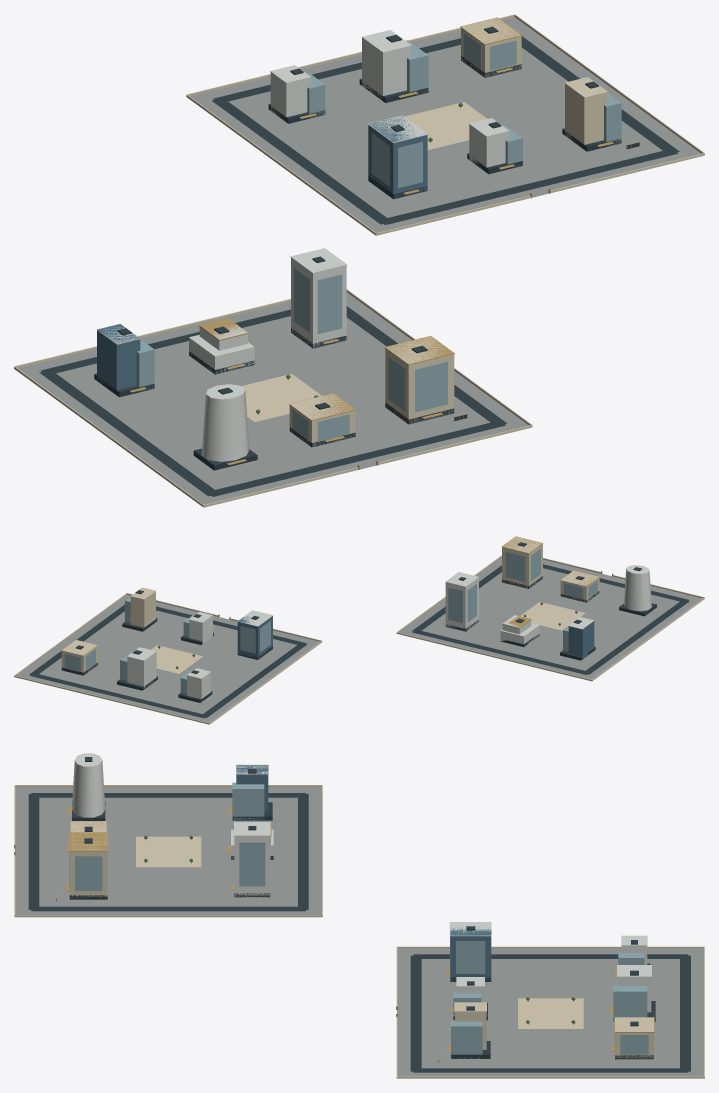
File: GC-TILE-19-20.glb
The picture shows the model from 3 angles, top to bottom: view 1: azimuth 30°, elevation 25°; view 2: azimuth 150°, elevation 25°; view 3: azimuth 270°, elevation 25°; orthographic projection. The views are drawn at different scales.
Parts seen in each view (by area): view 1: GC-TILE-19-20-paving, GC-TILE-19-20-ivory, GC-TILE-19-20-dark, GC-TILE-19-20-white, GC-TILE-19-20-glass, GC-TILE-19-20-blue, GC-TILE-19-20-gold; view 2: GC-TILE-19-20-paving, GC-TILE-19-20-ivory, GC-TILE-19-20-dark, GC-TILE-19-20-white, GC-TILE-19-20-glass, GC-TILE-19-20-blue, GC-TILE-19-20-gold; view 3: GC-TILE-19-20-paving, GC-TILE-19-20-dark, GC-TILE-19-20-ivory, GC-TILE-19-20-glass, GC-TILE-19-20-white, GC-TILE-19-20-blue, GC-TILE-19-20-gold.
Part boxes in pixels (x1=…): GC-TILE-19-20-paving: x1=18, y1=17, x2=700, y2=504; GC-TILE-19-20-ivory: x1=14, y1=14, x2=704, y2=507; GC-TILE-19-20-dark: x1=39, y1=26, x2=679, y2=496; GC-TILE-19-20-white: x1=96, y1=30, x2=607, y2=461; GC-TILE-19-20-glass: x1=136, y1=33, x2=621, y2=441; GC-TILE-19-20-blue: x1=97, y1=115, x2=427, y2=392; GC-TILE-19-20-gold: x1=130, y1=17, x2=639, y2=469; GC-TILE-19-20-paving: x1=16, y1=557, x2=702, y2=722; GC-TILE-19-20-ivory: x1=14, y1=536, x2=704, y2=724; GC-TILE-19-20-dark: x1=29, y1=542, x2=689, y2=718; GC-TILE-19-20-white: x1=127, y1=565, x2=651, y2=701; GC-TILE-19-20-glass: x1=64, y1=549, x2=597, y2=694; GC-TILE-19-20-blue: x1=237, y1=616, x2=594, y2=659; GC-TILE-19-20-gold: x1=61, y1=536, x2=613, y2=656; GC-TILE-19-20-paving: x1=15, y1=787, x2=703, y2=1076; GC-TILE-19-20-dark: x1=28, y1=757, x2=690, y2=1072; GC-TILE-19-20-ivory: x1=14, y1=785, x2=704, y2=1078; GC-TILE-19-20-glass: x1=69, y1=782, x2=648, y2=1058; GC-TILE-19-20-white: x1=72, y1=753, x2=651, y2=1012; GC-TILE-19-20-blue: x1=236, y1=765, x2=491, y2=981; GC-TILE-19-20-gold: x1=14, y1=806, x2=654, y2=1059.
Size of the model in its own units: 759 by 76.34 by 760.
